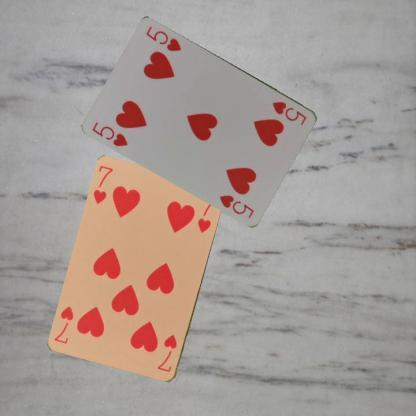5h: (90, 119, 130, 148), (270, 98, 308, 127)
7h: (90, 163, 115, 206), (154, 332, 178, 374)
